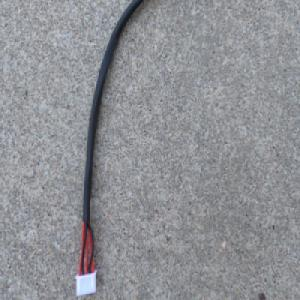Wire: (74, 0, 147, 299)
